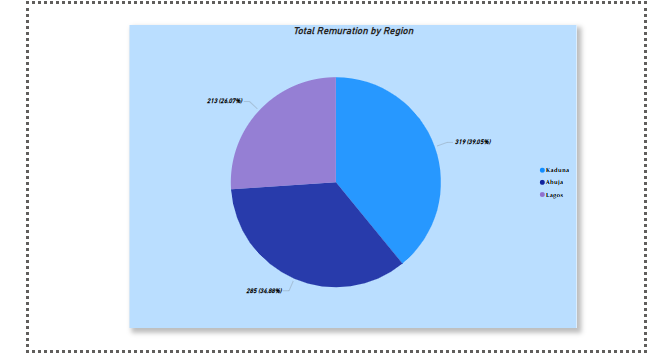

This screenshot's page, from the dashboard's own definition file:
{"tool":"powerbi","page":{"name":"Page 5","canvas":[1280,720],"ordinal":4},"visuals":[{"type":"pieChart","title":"Total Remuration by Region","fields":{"Category":["Palmoria Group emp-data.Location"],"Y":["CountNonNull(Palmoria Group emp-data.Total Remuneration)"]},"box":[209.4,43.8,931.2,631.2],"z":0}]}

Visuals, with their boxes in screenshot pixels (x1, y1, x2, y2), scaled from the page's 1280x720 canvas onto the 655x358 screenshot:
"Total Remuration by Region" pieChart: (107, 22, 584, 336)
